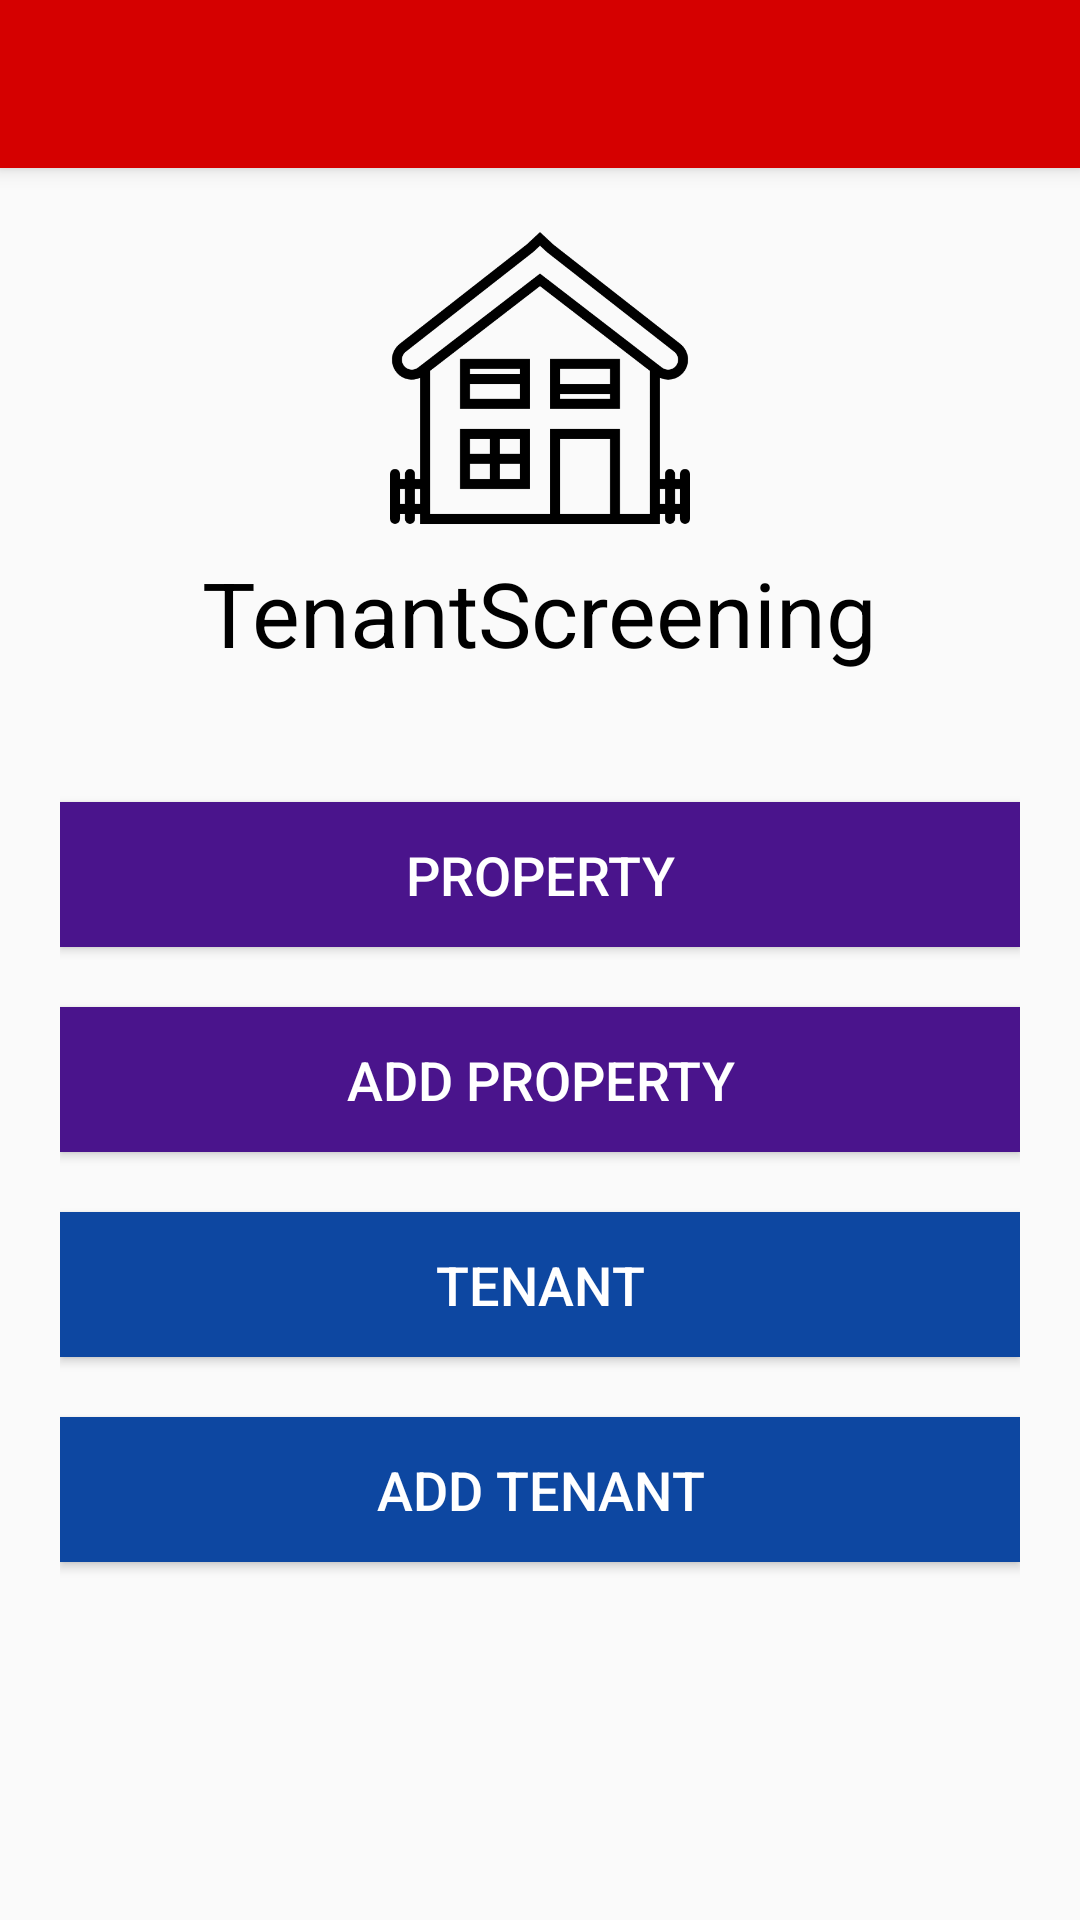

Named icons in this screenshot (1080 x 1920) and their bounding boxes, (x1, y1, x2, y2):
house: (390, 232, 690, 524)
